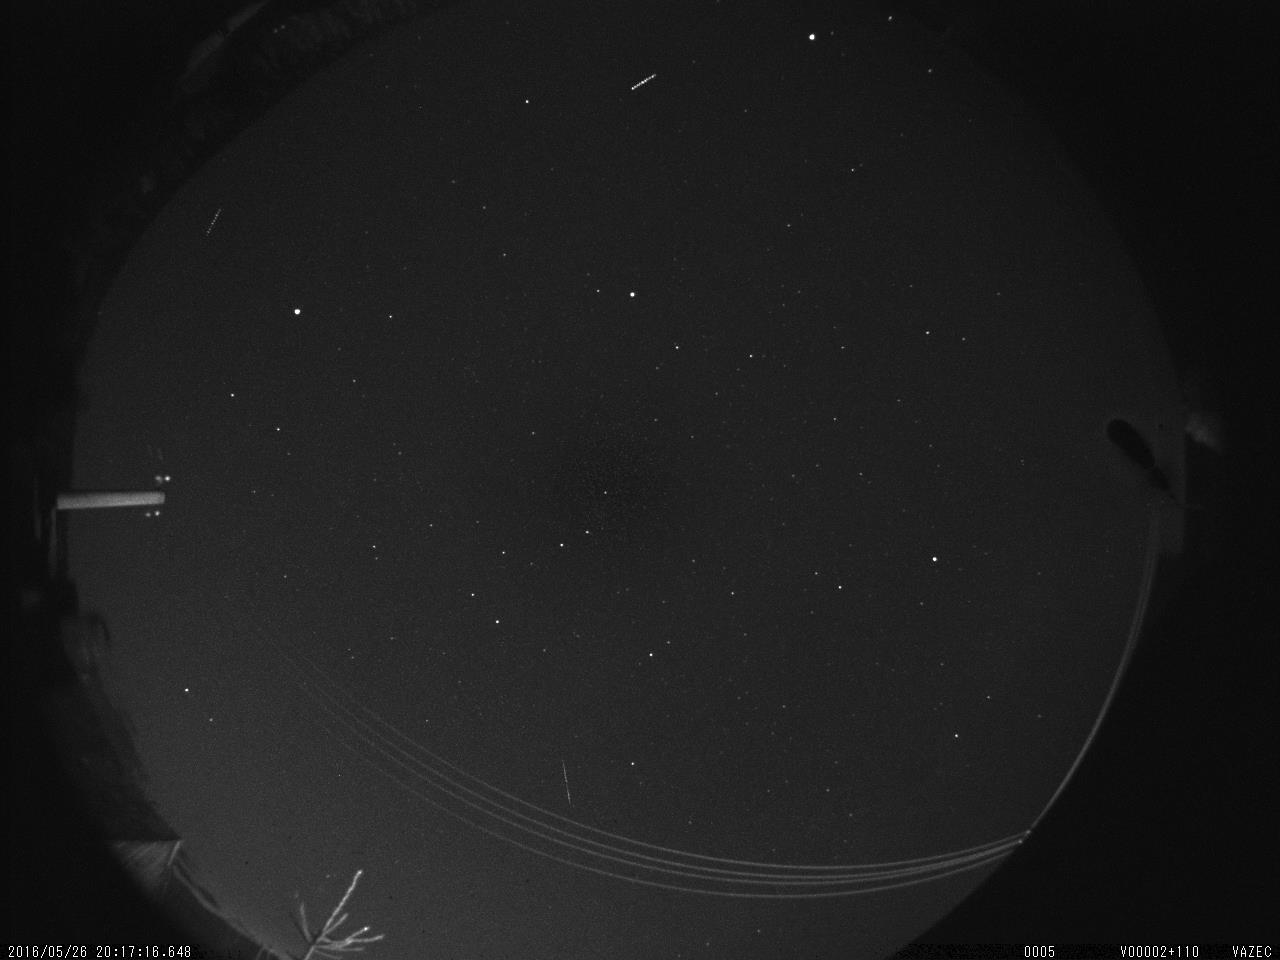meteor: (553, 756, 578, 813)
satelite: (199, 201, 226, 243), (626, 68, 661, 97)
